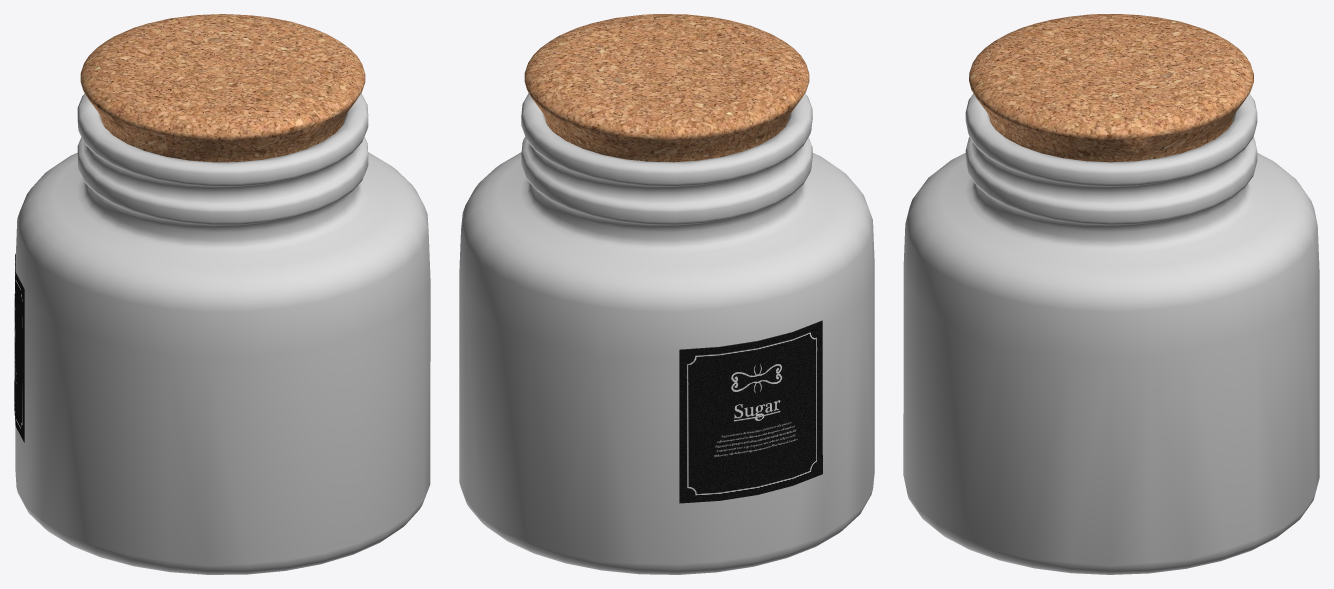
The model's file is sugar_jar.glb.
The picture shows the model from 3 angles, left to right: view 1: azimuth 30°, elevation 25°; view 2: azimuth 150°, elevation 25°; view 3: azimuth 270°, elevation 25°; orthographic projection.
Visible parts, largest first — view 1: SugarJar; view 2: SugarJar; view 3: SugarJar.
Boxes of the visible parts, x1,y1,x2,y2 form: SugarJar: [14, 14, 430, 574]; SugarJar: [459, 14, 874, 574]; SugarJar: [903, 14, 1319, 574].
Bounding box in the file's own units: 0.1275 × 0.1444 × 0.1275.
Materials: 4 (3 with a texture image).
